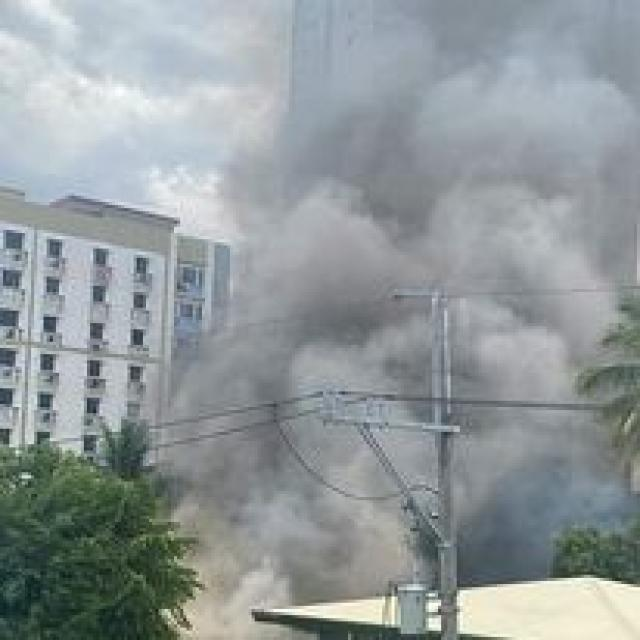Smoke: (304, 0, 640, 277), (256, 272, 634, 389), (168, 446, 374, 600), (458, 399, 600, 556)
